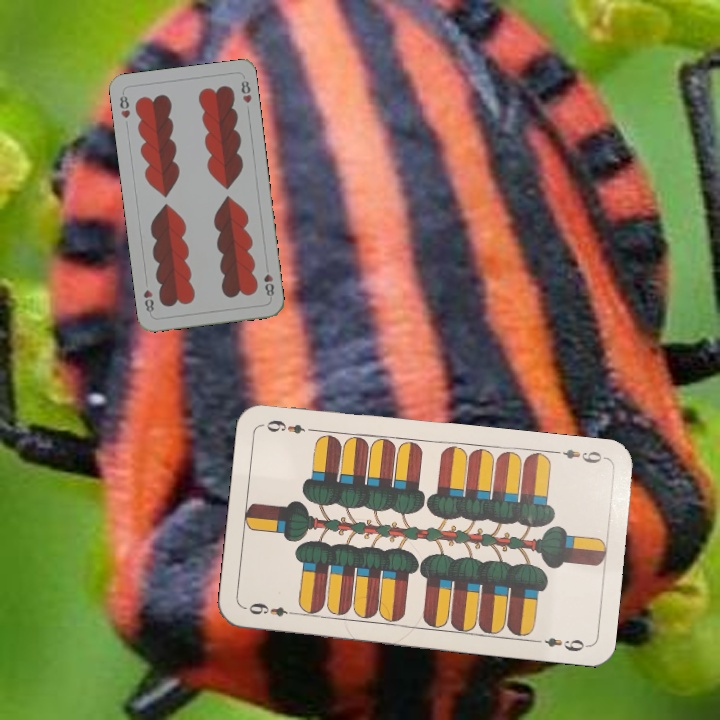E9: (549, 445, 609, 466), (242, 598, 301, 619)
H8: (116, 89, 133, 121), (260, 270, 277, 301)
